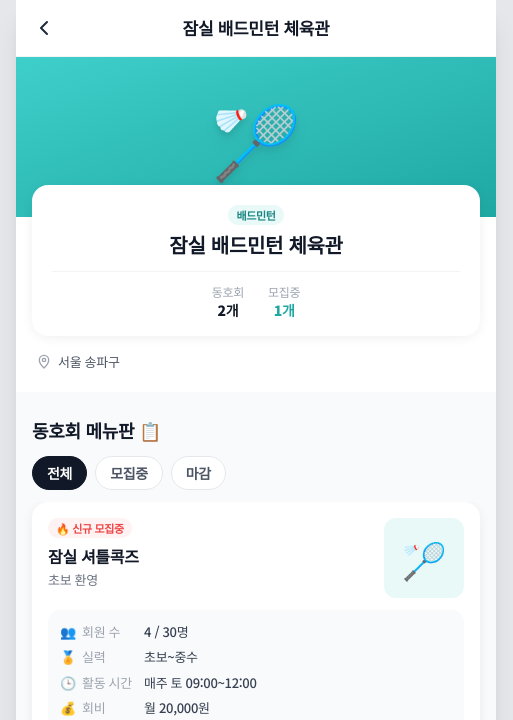
Test: 동호회 카드에 상태 뱃지, 회원 수, 실력, 활동 시간, 버튼을 보여준다
Expected: the text "🔥 신규 모집중" is shown, [48,518,132,538]
Expected: the text "4 / 30명" is shown, [144,622,188,641]
Click the button "마감" at (198, 472), box [171,456,226,490]
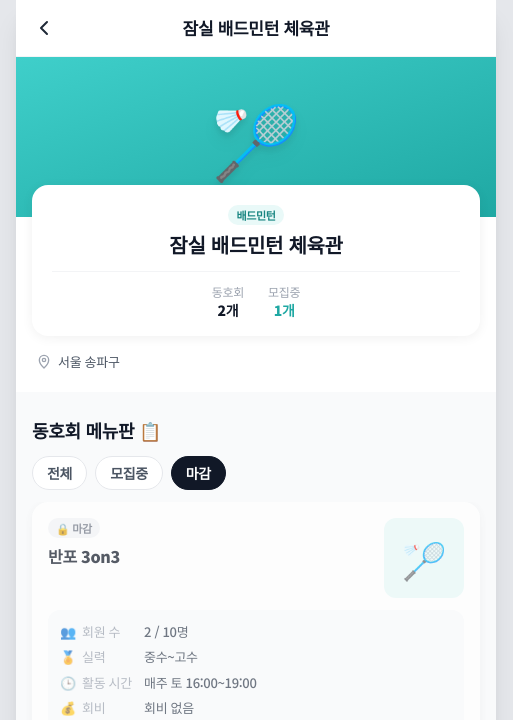
Expected: the heading "잠실 셔틀콕즈" is gone
